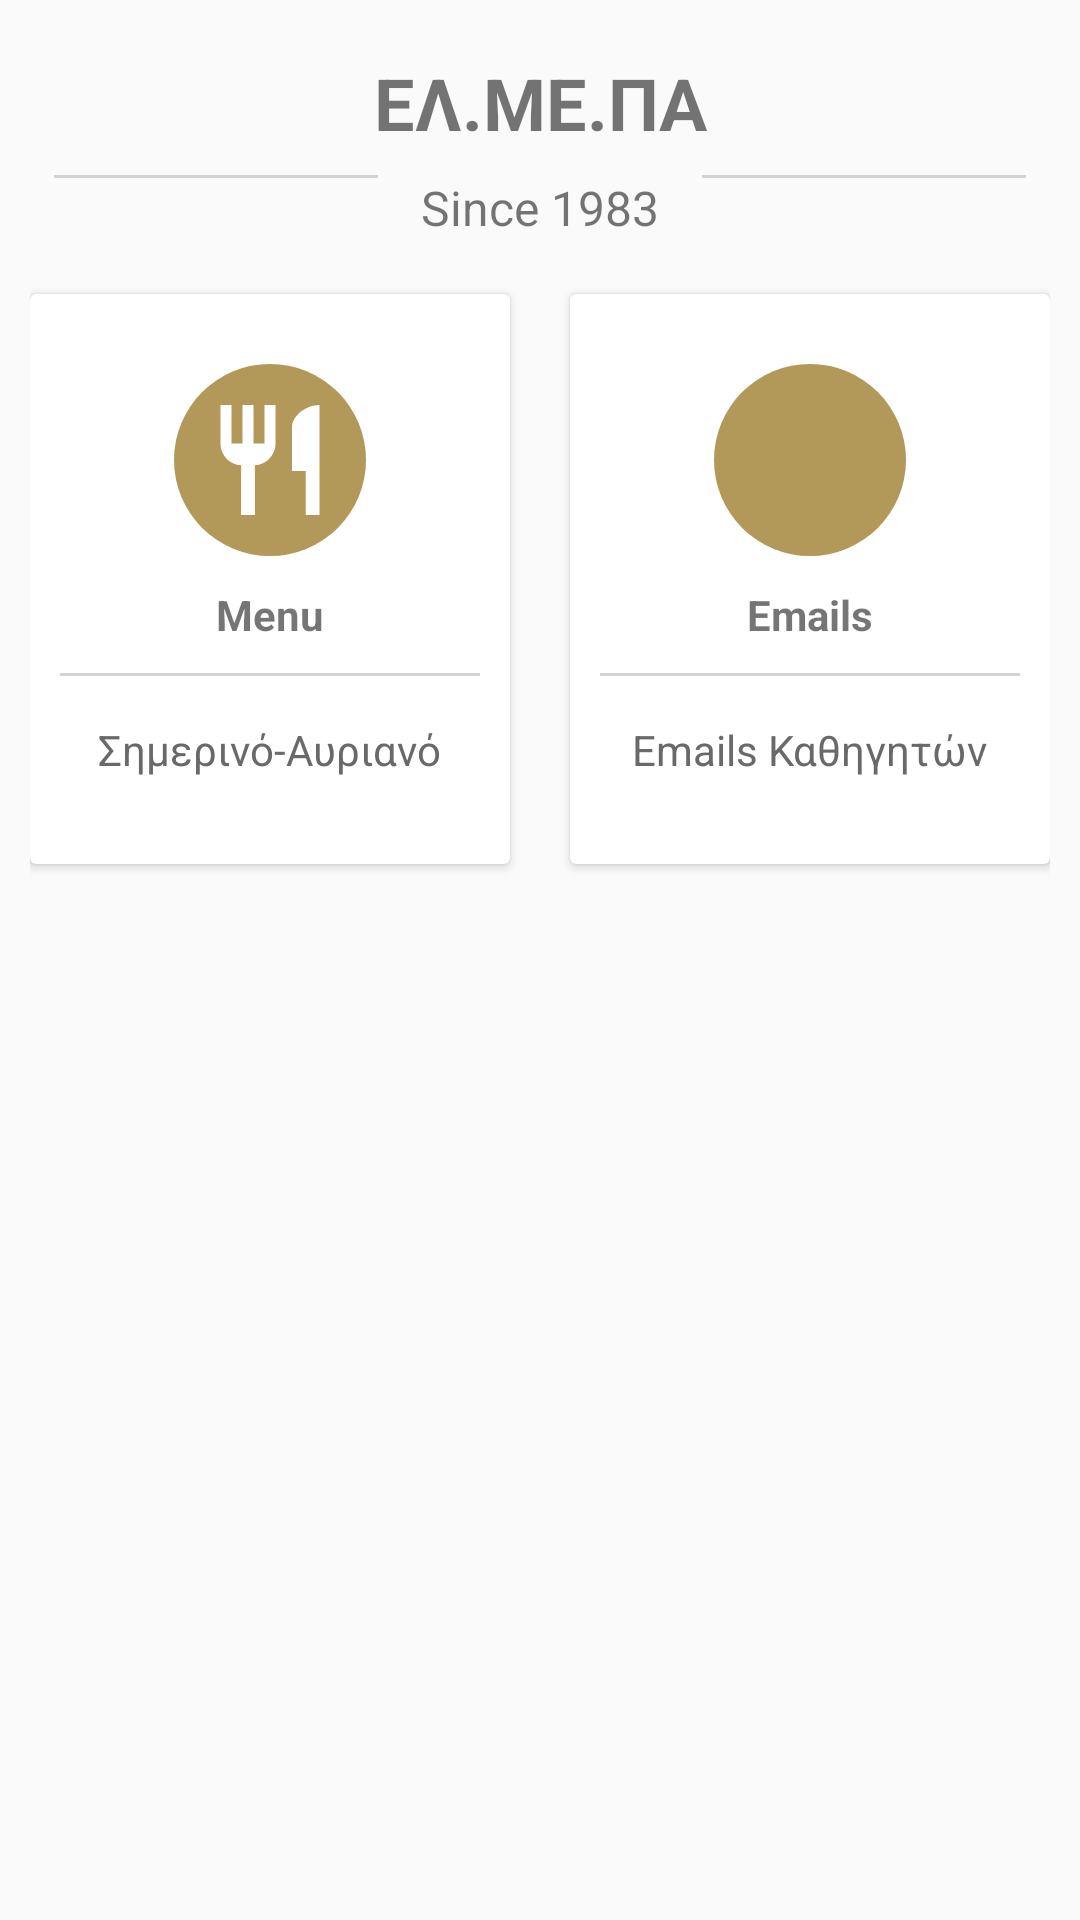

Screen size 1080px x 1920px. Icon name, then its box in pixels as detection(x1, y1, x2, y2):
food: detection(174, 364, 366, 556)
